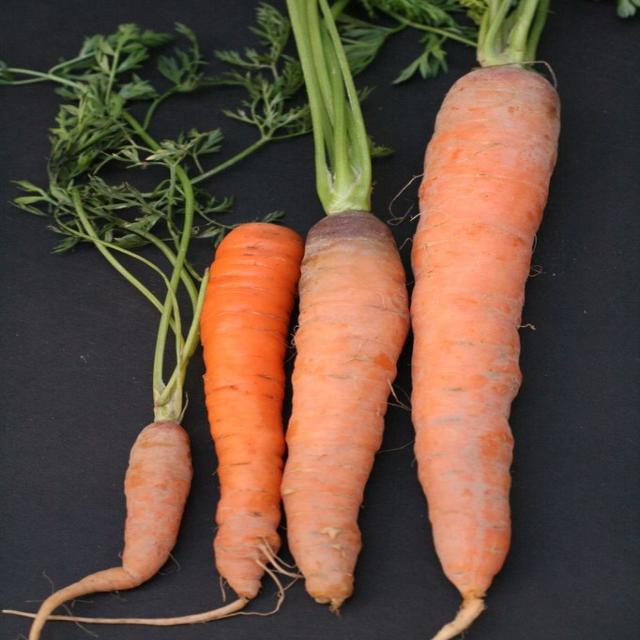Carrot: (384, 0, 561, 640), (282, 0, 408, 616)
